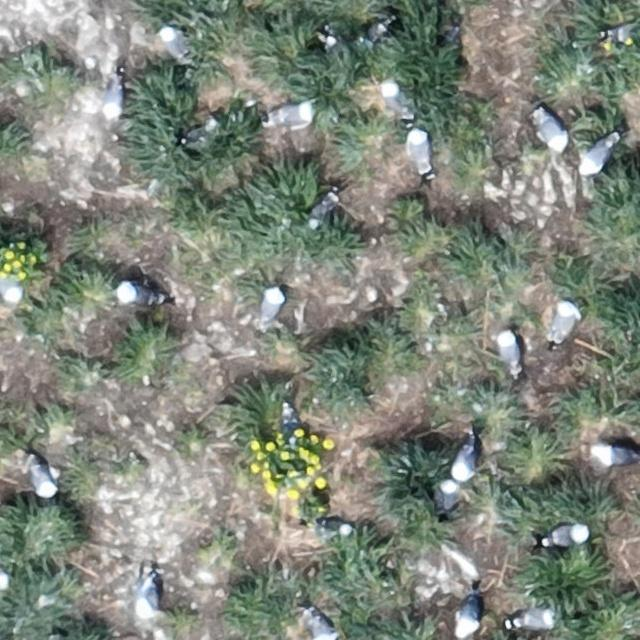umineko: (454, 589, 480, 638), (380, 81, 412, 120), (504, 611, 555, 632), (102, 77, 125, 121), (538, 114, 566, 150), (137, 575, 158, 623), (269, 105, 314, 127), (585, 140, 615, 173), (551, 304, 576, 341), (411, 132, 433, 174), (545, 523, 585, 544), (260, 288, 284, 322), (309, 191, 334, 222), (32, 465, 56, 496), (119, 287, 157, 306), (499, 336, 519, 371), (162, 30, 185, 60), (455, 445, 475, 478), (599, 447, 633, 466), (0, 274, 23, 302), (319, 518, 352, 535), (439, 481, 458, 510), (310, 616, 334, 638), (0, 568, 8, 589)
